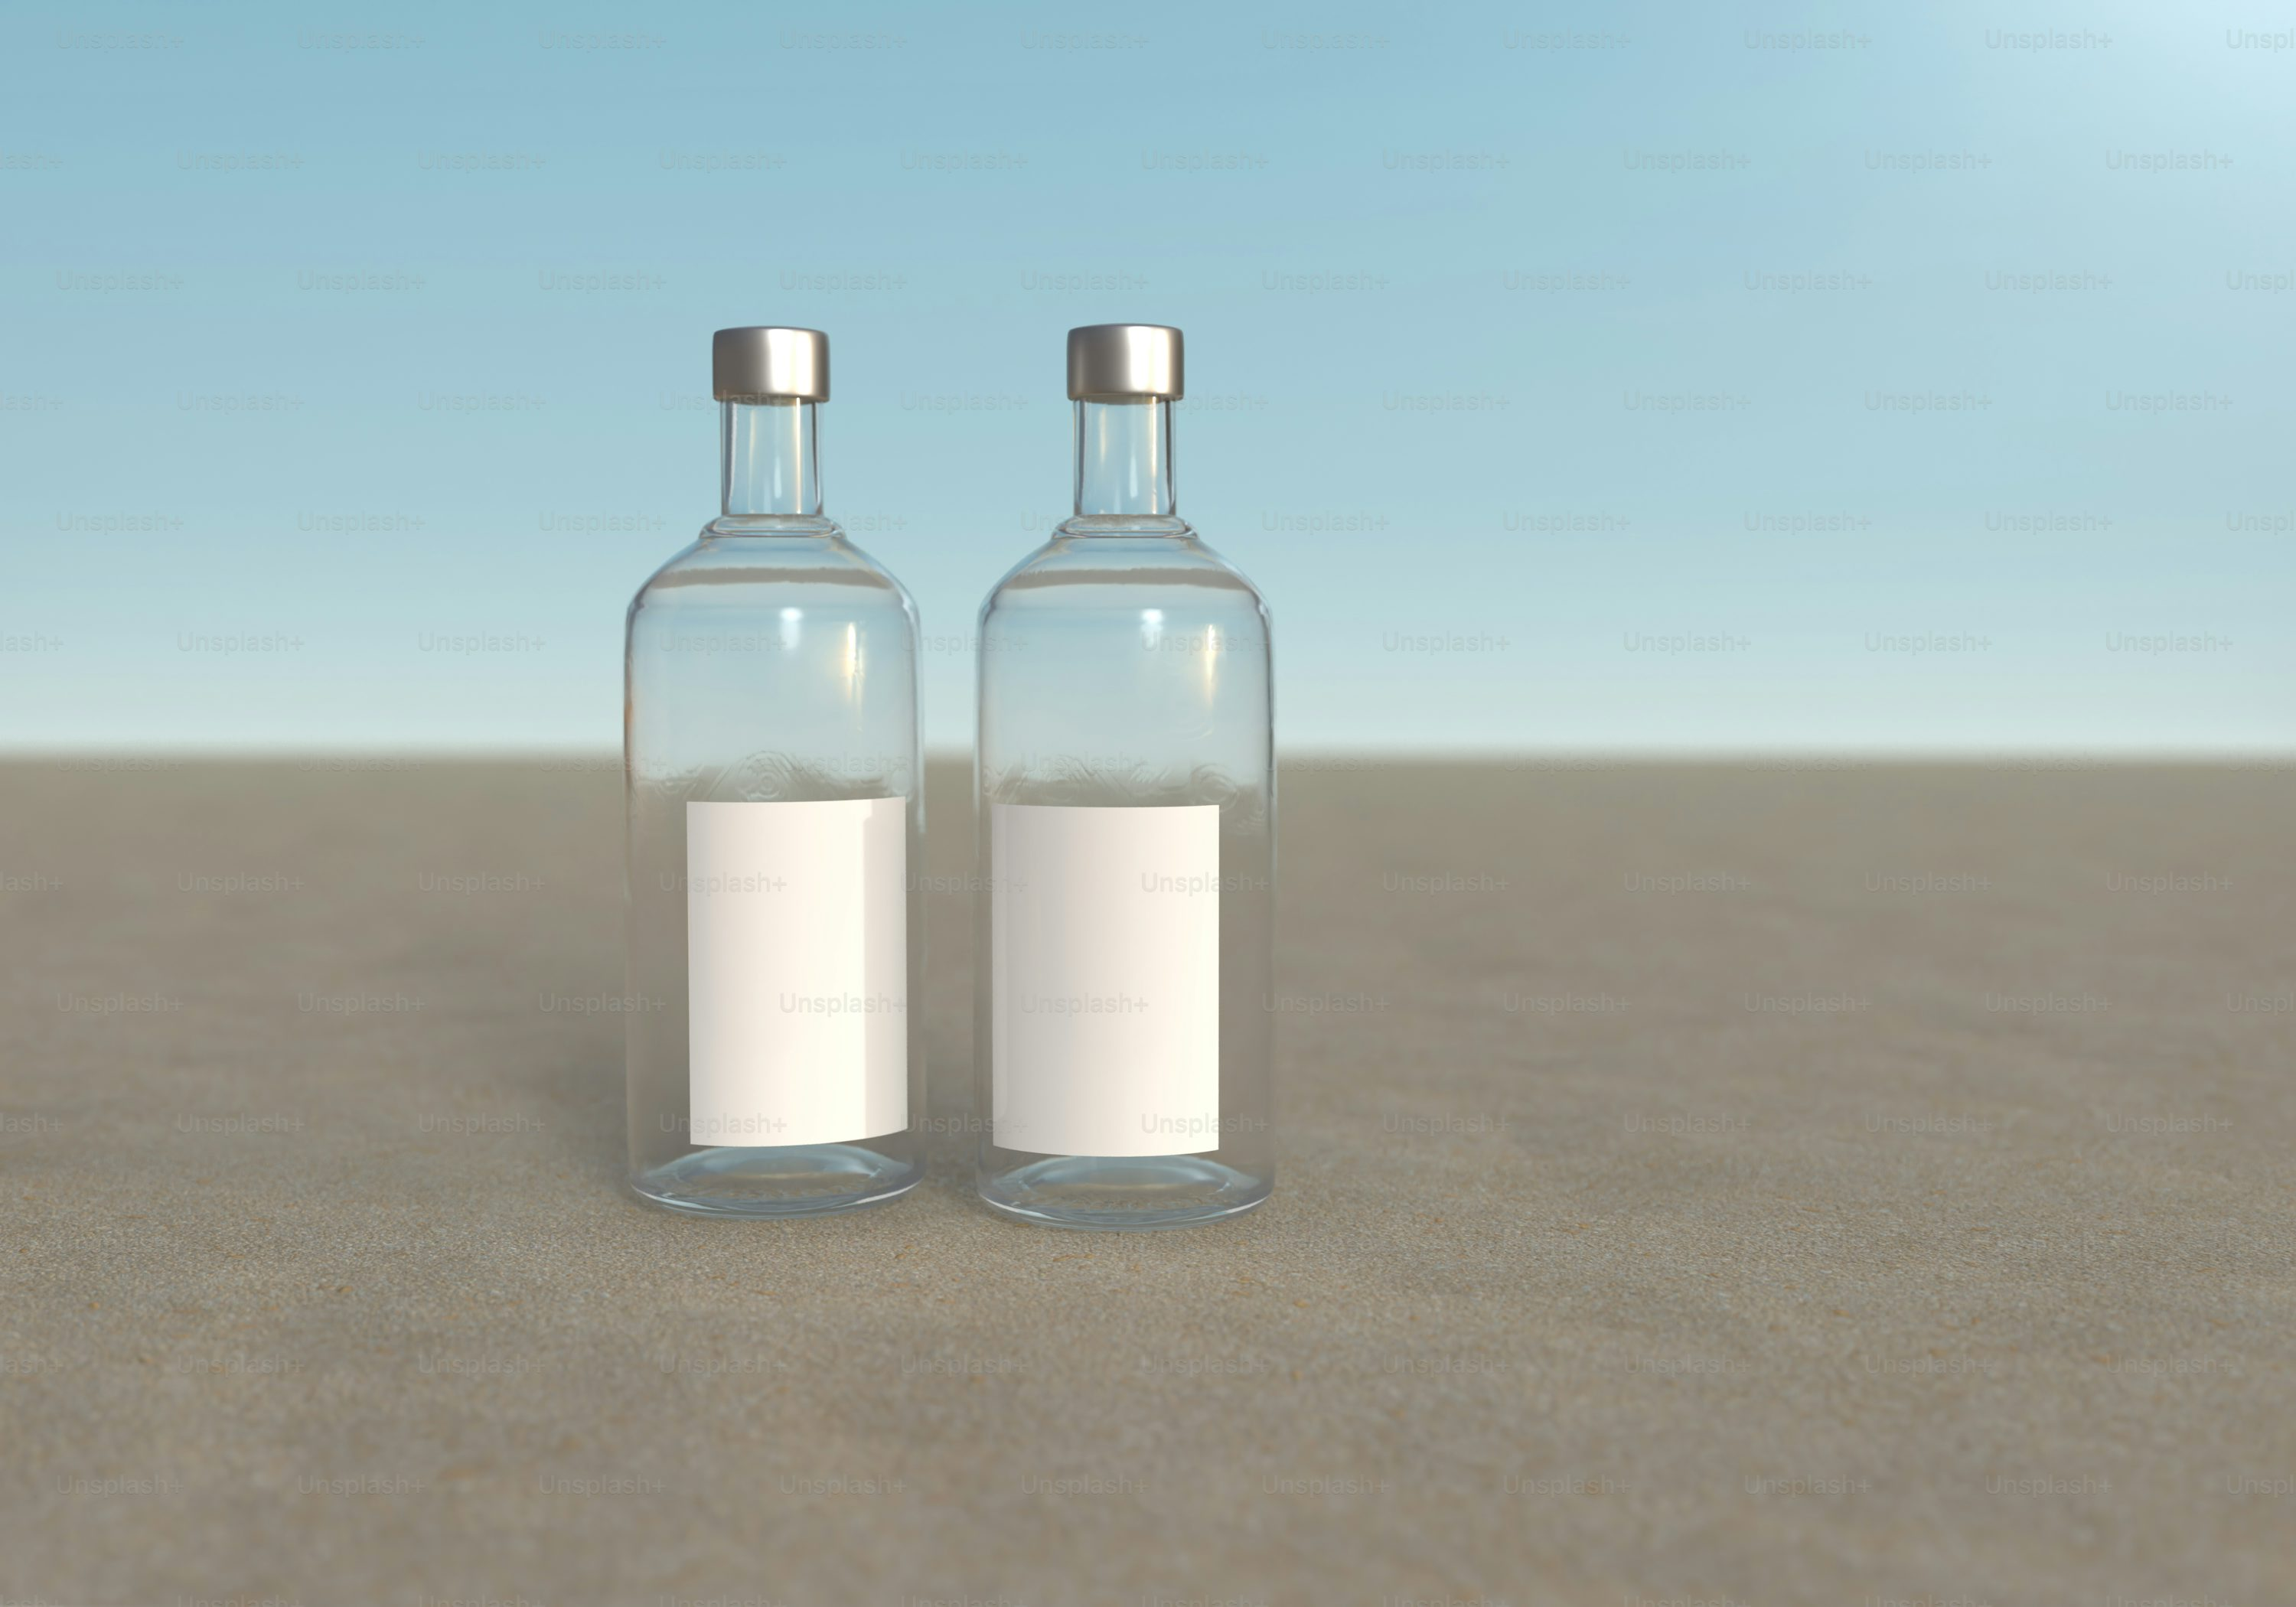glass_bottle: (597, 305, 944, 1227), (960, 314, 1298, 1244)
